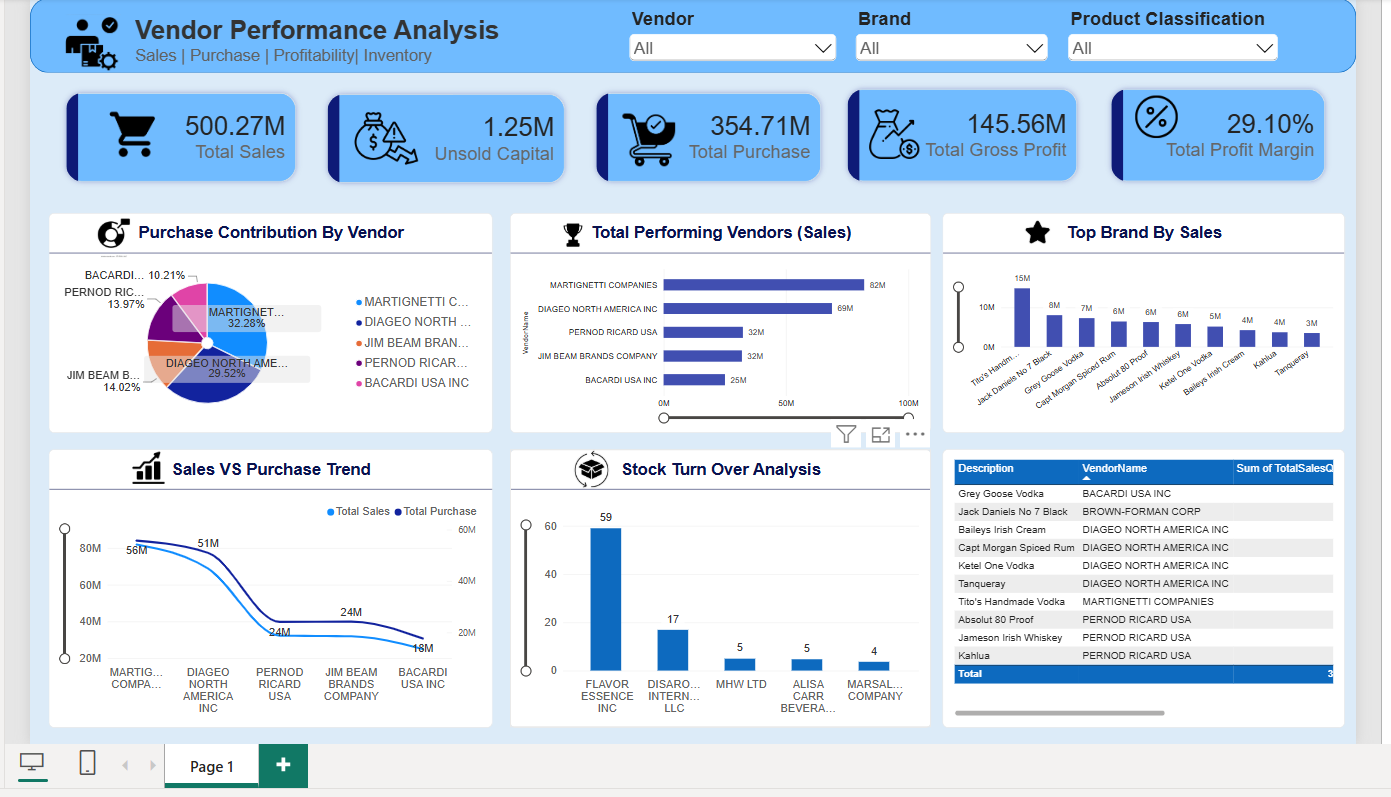

Layout of this report page (visuals, bound fields, positions):
{"tool":"powerbi","page":{"name":"Page 1","canvas":[1920,1080],"ordinal":0},"visuals":[{"type":"cardVisual","fields":{"Data":["vendor_sales_summary.Total Sales"]},"box":[41.6,126.7,354.7,150.2],"z":0},{"type":"cardVisual","fields":{"Data":["vendor_sales_summary.Total Purchase"]},"box":[808.9,126.7,347.5,150.2],"z":1000},{"type":"cardVisual","fields":{"Data":["vendor_sales_summary.Total Gross Profit"]},"box":[1172.7,121.2,354.7,155.6],"z":2000},{"type":"cardVisual","fields":{"Data":["vendor_sales_summary.Profit Margin"]},"box":[1554.5,121.2,331.2,155.6],"z":3000},{"type":"cardVisual","fields":{"Data":["vendor_sales_summary.Unsold Capital"]},"box":[419.8,128.5,365.6,150.2],"z":4000},{"type":"donutChart","title":"Purchase Contribution By Vendor","fields":{"Category":["vendor_sales_summary.VendorName"],"Y":["vendor_sales_summary.Total Purchase"]},"box":[27.1,311.3,642.4,318.5],"z":5000},{"type":"clusteredBarChart","title":"Total Performing Vendors (Sales)","fields":{"Category":["vendor_sales_summary.VendorName"],"Y":["vendor_sales_summary.Total Sales"]},"box":[694.9,311.3,609.9,318.5],"z":6000},{"type":"lineStackedColumnComboChart","title":"Top Brand By Sales","fields":{"Category":["vendor_sales_summary.Description"],"Y":["vendor_sales_summary.Total Sales"]},"box":[1321.1,311.3,582.7,318.5],"z":7000},{"type":"lineClusteredColumnComboChart","title":"Stock Turn Over Analysis","fields":{"Category":["vendor_sales_summary.VendorName"],"Y":["Avg(vendor_sales_summary.StockTurnover)"]},"box":[695.7,652.5,609.3,403.4],"z":8000},{"type":"lineChart","title":"Sales VS Purchase Trend","fields":{"Category":["vendor_sales_summary.VendorName"],"Y":["vendor_sales_summary.Total Sales"],"Y2":["vendor_sales_summary.Total Purchase"]},"box":[26.8,652.5,642.2,403.4],"z":9000},{"type":"tableEx","fields":{"Values":["vendor_sales_summary.Description","vendor_sales_summary.VendorName","Sum(vendor_sales_summary.TotalSalesQuantity)","Sum(vendor_sales_summary.TotalSalesDollars)","Avg(vendor_sales_summary.StockTurnover)"]},"box":[1321.4,652.5,582.5,403.4],"z":10000},{"type":"shape","box":[0,0,1920,108.3],"z":11000},{"type":"slicer","fields":{"Values":["vendor_sales_summary.VendorName"]},"box":[862.5,13.8,309.2,80.7],"z":12000},{"type":"slicer","fields":{"Values":["vendor_sales_summary.Brand"]},"box":[1191.4,13.8,287.5,80.7],"z":13000},{"type":"slicer","fields":{"Values":["purchases.Classification"]},"box":[1498.6,13.8,313.1,80.7],"z":14000},{"type":"shape","title":"Vendor Performance Analysis","box":[152,25.3,575,80.7],"z":15000},{"type":"image","box":[112.2,150.2,78.2,94.7],"z":17000},{"type":"image","box":[728.6,310.8,113.2,63.8],"z":18000},{"type":"image","box":[1418.2,310.8,80.3,55.6],"z":19000},{"type":"image","box":[121.4,629.8,100.9,100.9],"z":20000},{"type":"image","box":[786.3,652.5,55.6,57.6],"z":21000},{"type":"image","box":[90.6,298.5,61.7,88.5],"z":22000},{"type":"image","box":[841.5,164.7,108.6,81.4],"z":26250},{"type":"image","box":[1580.8,142,98.8,61.7],"z":26312},{"type":"image","box":[1198,161.1,106.8,72.4],"z":26375},{"type":"image","box":[419.8,137.5,191.8,130.3],"z":26500},{"type":"image","box":[47.1,23.5,85.1,85.1],"z":27001}]}

Visuals, with their boxes on the page's 1920x1080 design canvas (x1, y1, x2, y2). These are canvas units, not pixel positions in the 1391x797 screenshot, which may show the page scaled, cropped or inside an application window:
cardVisual - vendor_sales_summary.Total Sales: bbox(42, 127, 396, 277)
cardVisual - vendor_sales_summary.Total Purchase: bbox(809, 127, 1156, 277)
cardVisual - vendor_sales_summary.Total Gross Profit: bbox(1173, 121, 1527, 277)
cardVisual - vendor_sales_summary.Profit Margin: bbox(1554, 121, 1886, 277)
cardVisual - vendor_sales_summary.Unsold Capital: bbox(420, 128, 785, 279)
"Purchase Contribution By Vendor" donutChart: bbox(27, 311, 670, 630)
"Total Performing Vendors (Sales)" clusteredBarChart: bbox(695, 311, 1305, 630)
"Top Brand By Sales" lineStackedColumnComboChart: bbox(1321, 311, 1904, 630)
"Stock Turn Over Analysis" lineClusteredColumnComboChart: bbox(696, 652, 1305, 1056)
"Sales VS Purchase Trend" lineChart: bbox(27, 652, 669, 1056)
tableEx - vendor_sales_summary.Description x vendor_sales_summary.VendorName: bbox(1321, 652, 1904, 1056)
shape: bbox(0, 0, 1920, 108)
slicer - vendor_sales_summary.VendorName: bbox(862, 14, 1172, 94)
slicer - vendor_sales_summary.Brand: bbox(1191, 14, 1479, 94)
slicer - purchases.Classification: bbox(1499, 14, 1812, 94)
"Vendor Performance Analysis" shape: bbox(152, 25, 727, 106)
image: bbox(112, 150, 190, 245)
image: bbox(729, 311, 842, 375)
image: bbox(1418, 311, 1498, 366)
image: bbox(121, 630, 222, 731)
image: bbox(786, 652, 842, 710)
image: bbox(91, 298, 152, 387)
image: bbox(842, 165, 950, 246)
image: bbox(1581, 142, 1680, 204)
image: bbox(1198, 161, 1305, 234)
image: bbox(420, 138, 612, 268)
image: bbox(47, 24, 132, 109)
